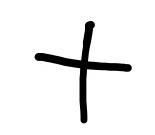plus: (35, 21, 132, 123)
